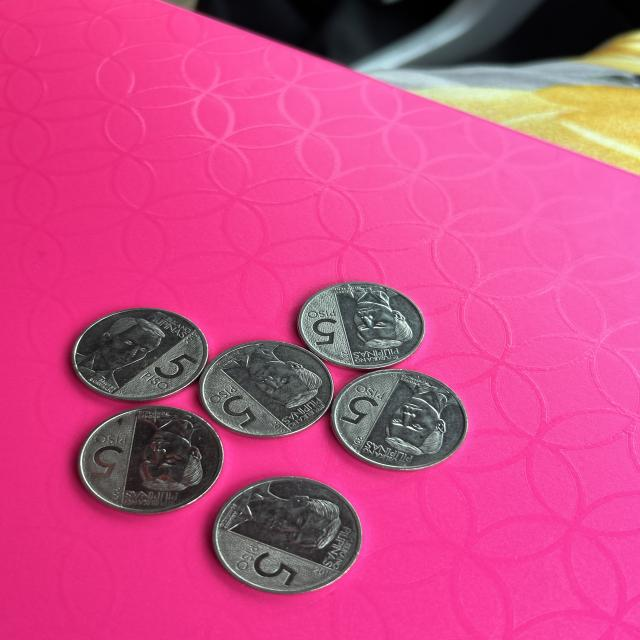5_New_Front: (229, 544, 296, 588), (143, 354, 211, 393), (338, 381, 382, 430), (211, 386, 259, 428), (303, 309, 347, 348), (95, 428, 124, 484)
